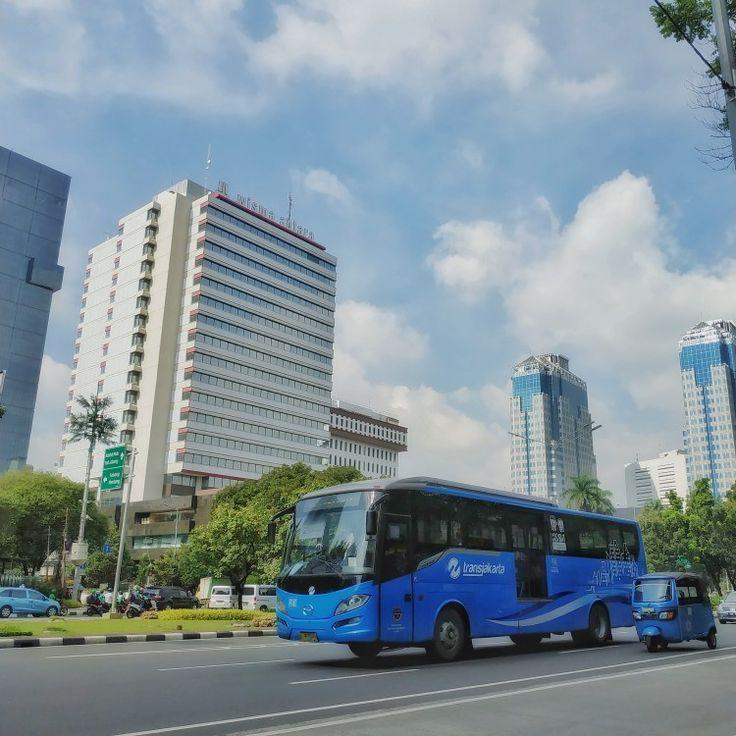mobil: (630, 570, 717, 652), (0, 584, 61, 617), (149, 579, 196, 612), (206, 581, 232, 614), (242, 583, 276, 608)
motor: (123, 584, 142, 621), (88, 597, 110, 614)
transjakarta: (268, 474, 648, 661)
